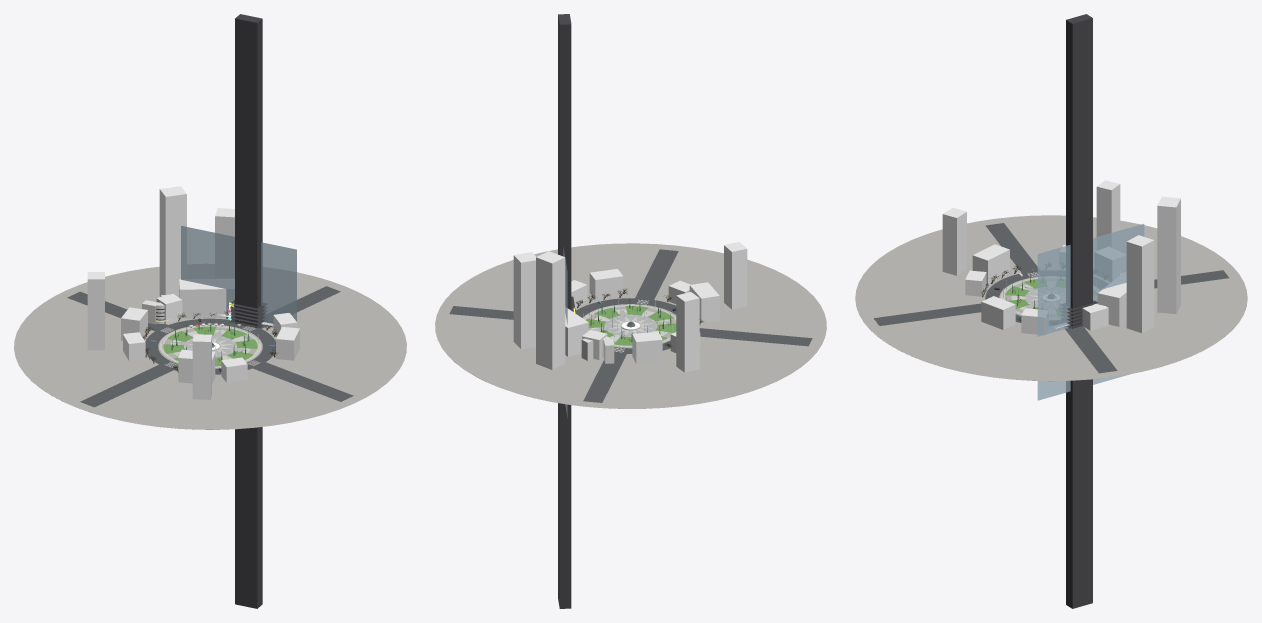
Rendered from custom.glb.
The picture shows the model from 3 angles, left to right: view 1: azimuth 30°, elevation 25°; view 2: azimuth 150°, elevation 25°; view 3: azimuth 270°, elevation 25°; orthographic projection.
Parts seen in each view (by area): view 1: Ground, LiftShaft, CinemaGlass, RadialRoads, TowerB, Block_0, RingRoad, TowerC, TowerA, TowerD, Lawns, StarPaving (+6 smaller); view 2: Ground, LiftShaft, RadialRoads, TowerB, TowerA, TowerC, TowerD, StarPaving, Lawns, Block_7, Block_3, RingRoad (+3 smaller); view 3: Ground, LiftShaft, CinemaGlass, RadialRoads, TowerB, TowerA, TowerC, TowerD, Block_0, Block_5, Block_7, Block_3 (+5 smaller).
Boxes of the visible parts, left/top/right/bottom form: Ground: left=14, top=264, right=406, bottom=429; LiftShaft: left=235, top=14, right=262, bottom=608; CinemaGlass: left=181, top=225, right=296, bottom=327; RadialRoads: left=67, top=286, right=353, bottom=407; TowerB: left=159, top=186, right=186, bottom=297; Block_0: left=179, top=279, right=234, bottom=318; RingRoad: left=145, top=318, right=275, bottom=374; TowerC: left=87, top=272, right=104, bottom=350; TowerA: left=215, top=208, right=234, bottom=278; TowerD: left=192, top=334, right=211, bottom=399; Lawns: left=163, top=326, right=257, bottom=366; StarPaving: left=170, top=330, right=250, bottom=359; Ground: left=435, top=243, right=826, bottom=408; LiftShaft: left=558, top=14, right=571, bottom=608; RadialRoads: left=449, top=249, right=812, bottom=402; TowerB: left=536, top=251, right=565, bottom=369; TowerA: left=513, top=252, right=536, bottom=349; TowerC: left=676, top=292, right=699, bottom=372; TowerD: left=724, top=242, right=747, bottom=309; StarPaving: left=591, top=309, right=670, bottom=341; Lawns: left=586, top=306, right=676, bottom=345; Block_7: left=589, top=269, right=623, bottom=299; Block_3: left=632, top=331, right=662, bottom=364; RingRoad: left=575, top=298, right=676, bottom=353; Ground: left=855, top=215, right=1247, bottom=381; LiftShaft: left=1066, top=14, right=1092, bottom=608; CinemaGlass: left=1037, top=224, right=1144, bottom=400; RadialRoads: left=874, top=223, right=1228, bottom=373; TowerB: left=1157, top=196, right=1180, bottom=313; TowerA: left=1126, top=235, right=1154, bottom=333; TowerC: left=1096, top=180, right=1120, bottom=250; TowerD: left=942, top=207, right=966, bottom=275; Block_0: left=1097, top=272, right=1126, bottom=326; Block_5: left=972, top=244, right=1009, bottom=284; Block_7: left=981, top=296, right=1015, bottom=329; Block_3: left=1094, top=247, right=1126, bottom=281.
Bounding box in the file's own units: 320 × 526 × 320.
Materials: 60 (6 with a texture image).
